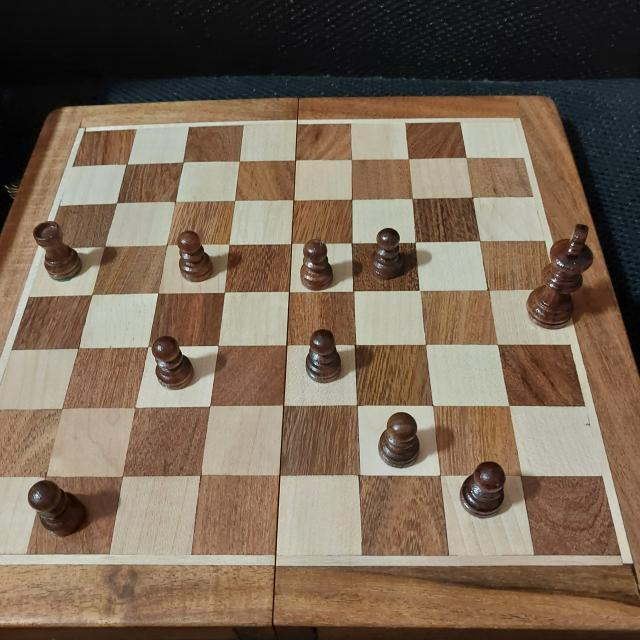black-elephant: (31, 220, 86, 274)
black-king: (528, 212, 599, 342)
black-pawn: (455, 458, 510, 526), (25, 476, 85, 534), (146, 334, 200, 390), (302, 324, 346, 386), (378, 412, 419, 474), (368, 221, 411, 280), (172, 227, 218, 282), (300, 240, 336, 296)
